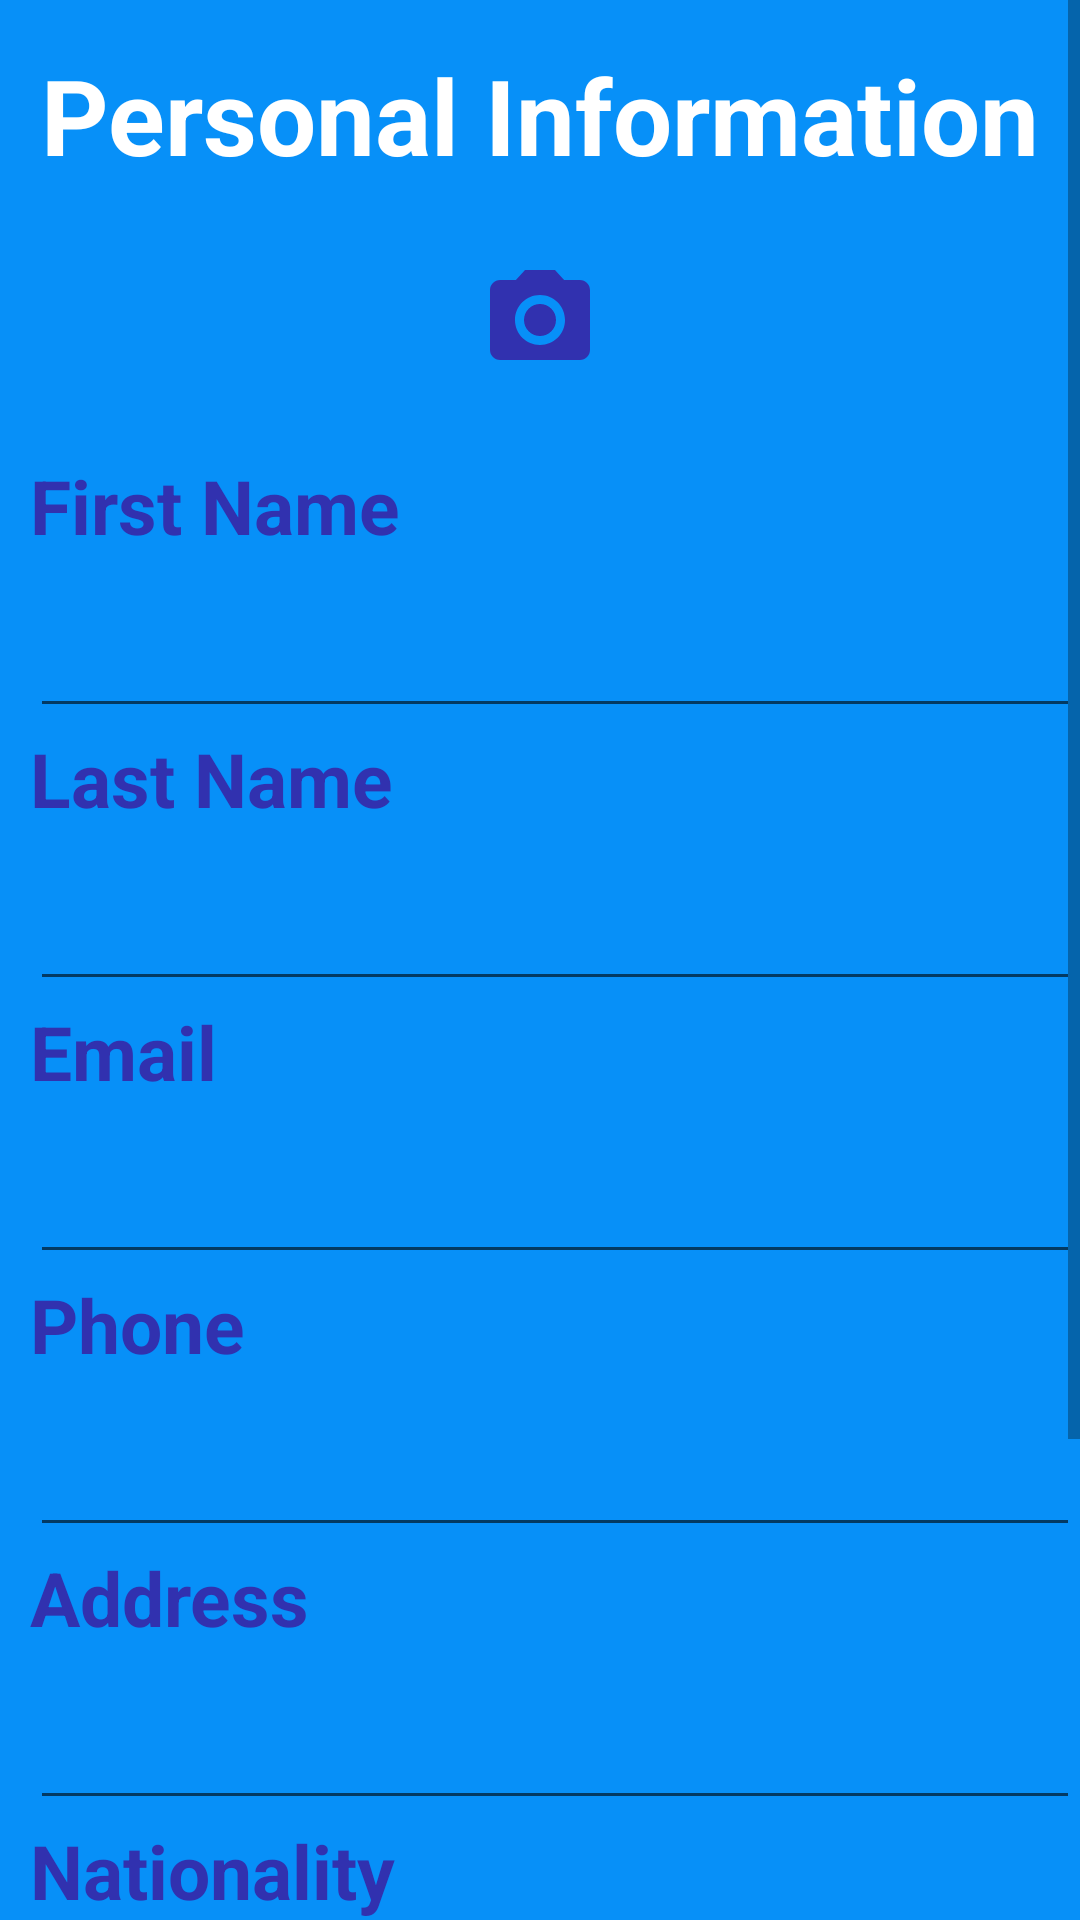

Screen size 1080 x 1920. Icon name, then its box in pixels as bbox=(x1, y1, x2, y2):
camera: bbox=(490, 270, 590, 360)
